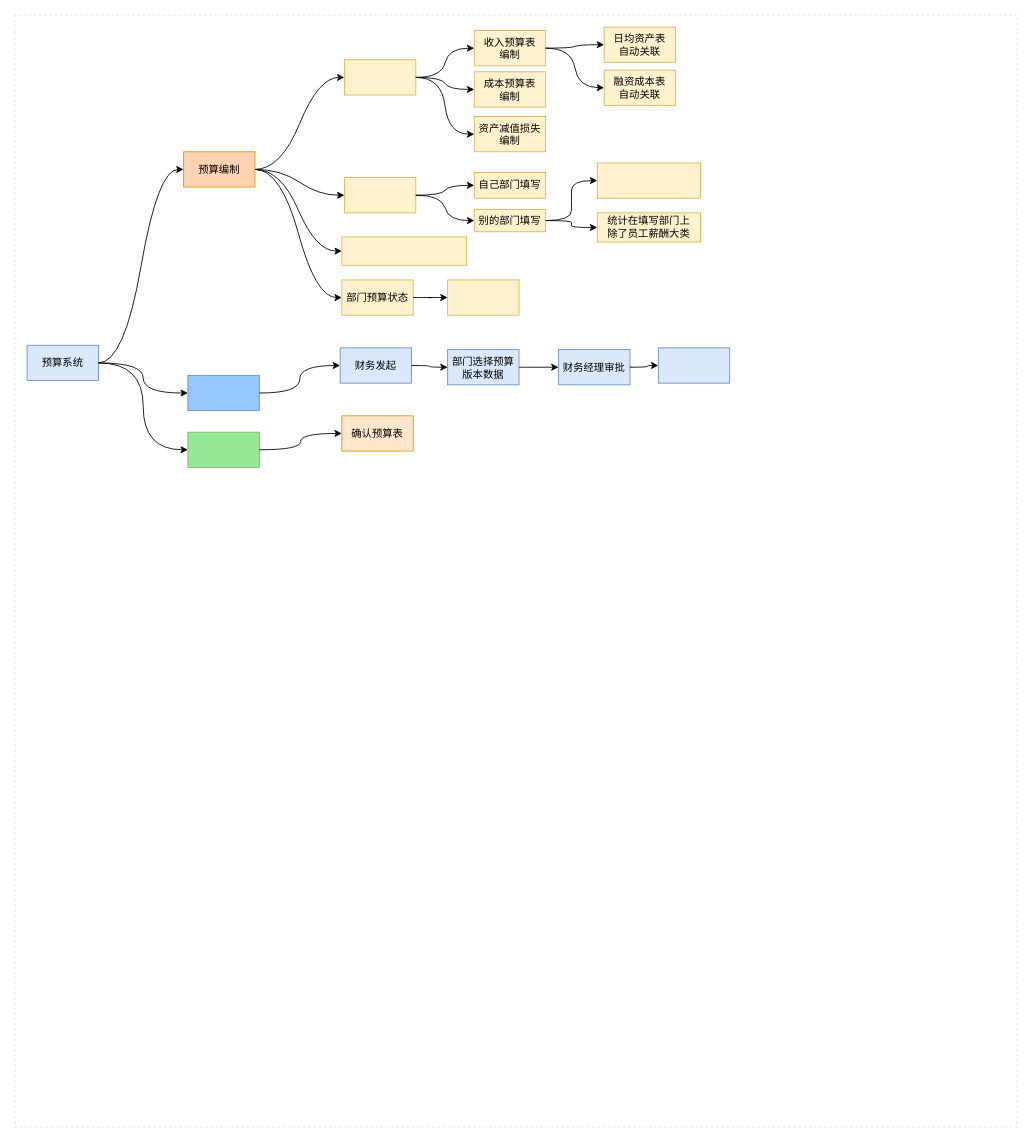
The diagram is 1032 pixels wide and 1142 high, and some of its shapes have lost their labels. The shapes that lost their labels are listed below. From the top down, each one's centre as x and y in pixels, then its label:
At [380,77]: "利润预算表 编制".
At [380,195]: "费用总表 两个维度".
At [648,180]: "统计在被填写部门上 员工薪酬大类".
At [404,250]: "确认/反确认 版本号功能".
At [483,297]: "填写中/已确认 已提交/已确定".
At [693,365]: "总经理审批".
At [223,393]: "预算审批".
At [223,449]: "预算确认".
